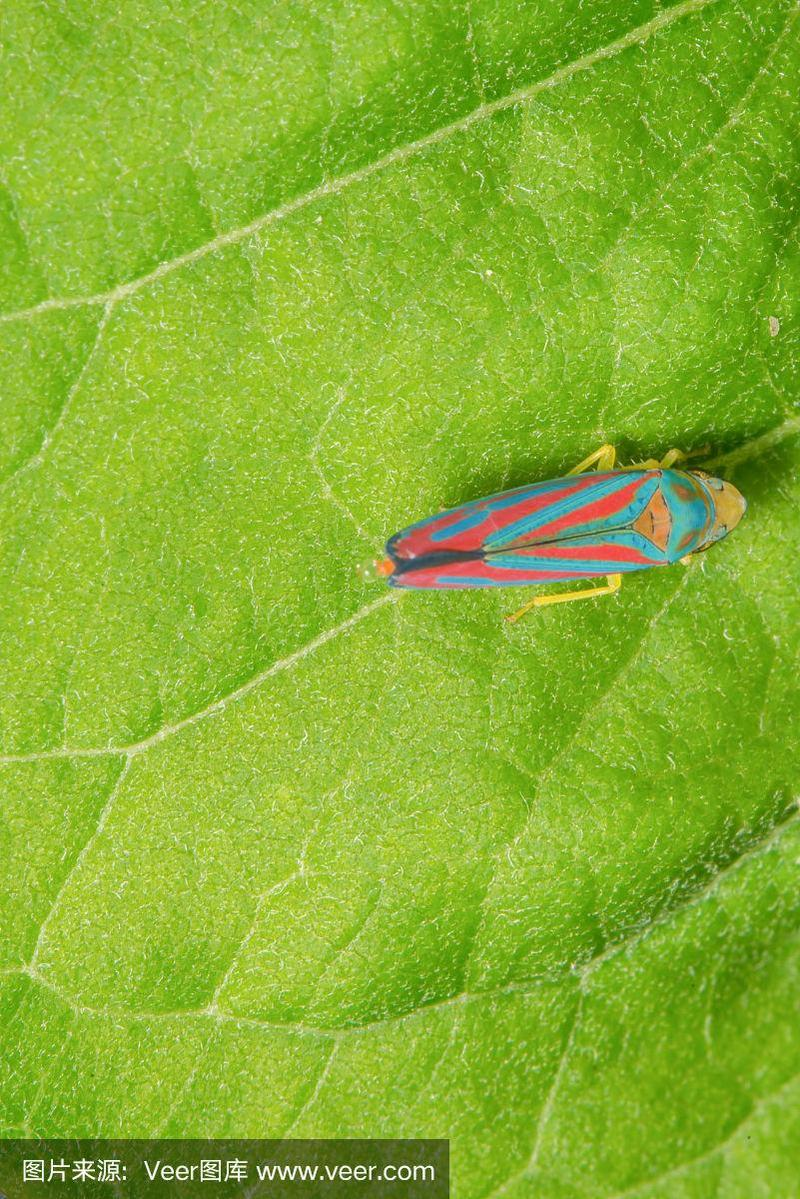Cicadellidae: (351, 444, 752, 622)
